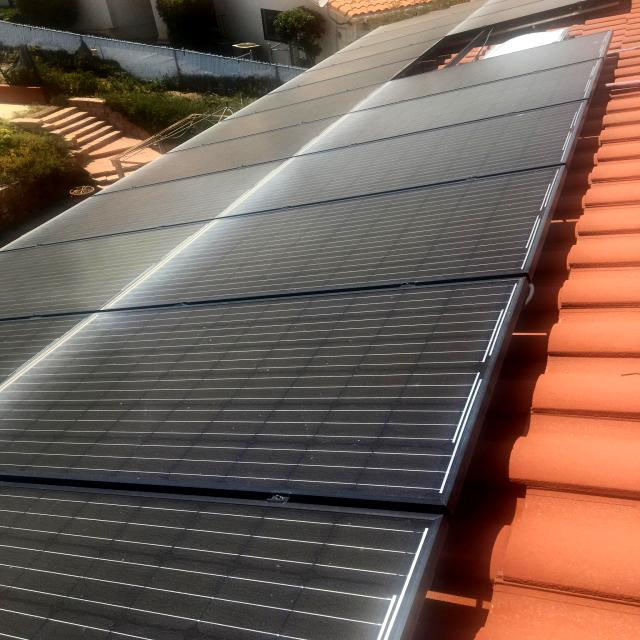dust: (165, 534, 423, 640), (233, 388, 463, 484), (3, 513, 118, 612), (37, 391, 194, 462)
